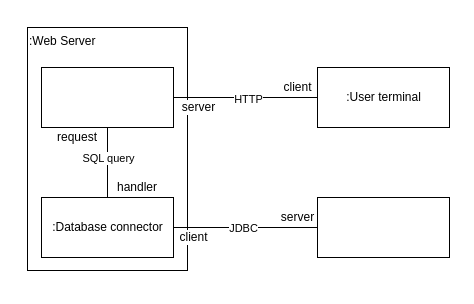
This 474x304 diagram has some shape labels left out. Here are the shapes that lost their labels. From the top down, the centre of each, then its label:
(x=107, y=97): :Web application
(x=383, y=227): :Relational Database
